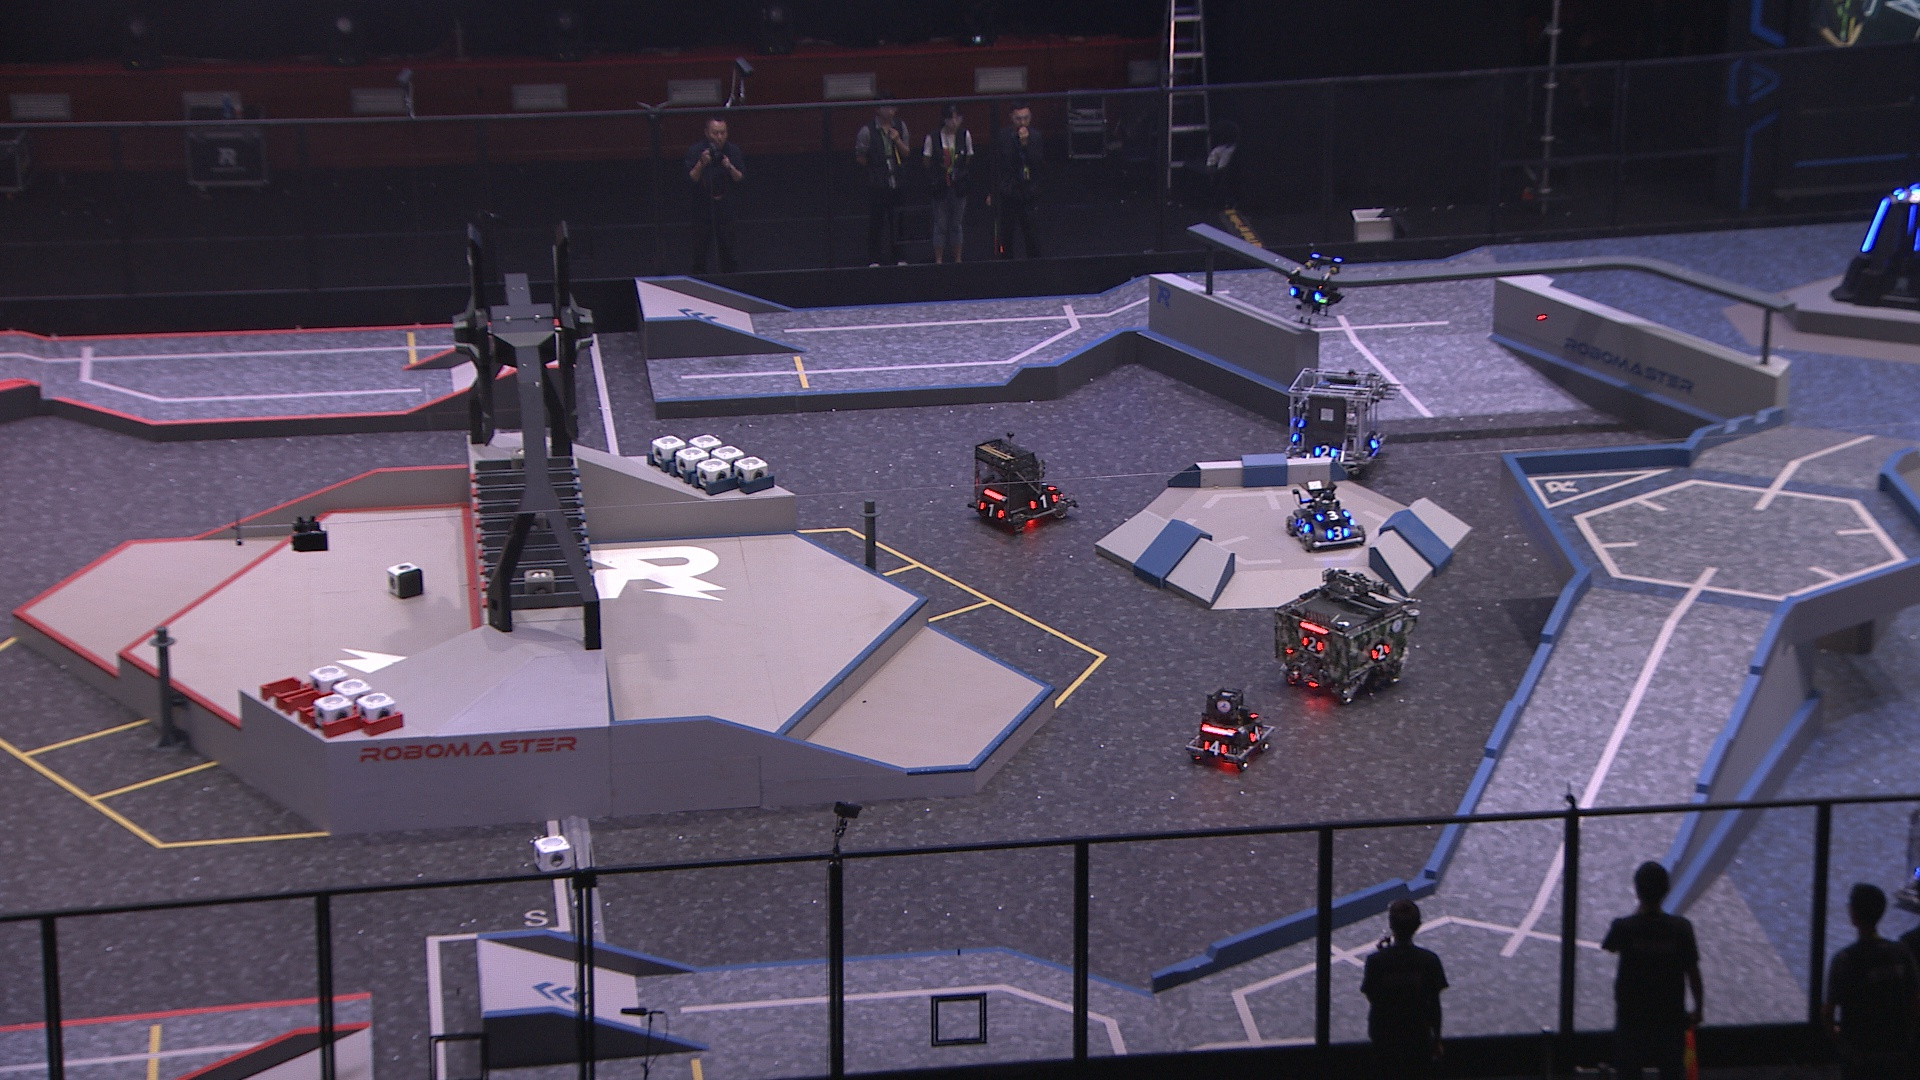armor: (1861, 196, 1890, 251), (1287, 284, 1324, 305), (977, 500, 1004, 520), (1313, 509, 1349, 524), (1203, 741, 1229, 760), (1030, 495, 1058, 510), (1896, 186, 1920, 204), (1313, 444, 1338, 462), (1328, 524, 1352, 541), (1300, 636, 1321, 654), (1370, 645, 1394, 659), (1366, 434, 1379, 458), (1294, 516, 1309, 534), (1247, 727, 1263, 744)
base: (1830, 185, 1920, 306)
car: (1275, 568, 1424, 702), (1282, 363, 1386, 481), (967, 436, 1081, 533), (1185, 688, 1273, 775), (1284, 479, 1364, 547)
watcher: (1282, 253, 1346, 318)
